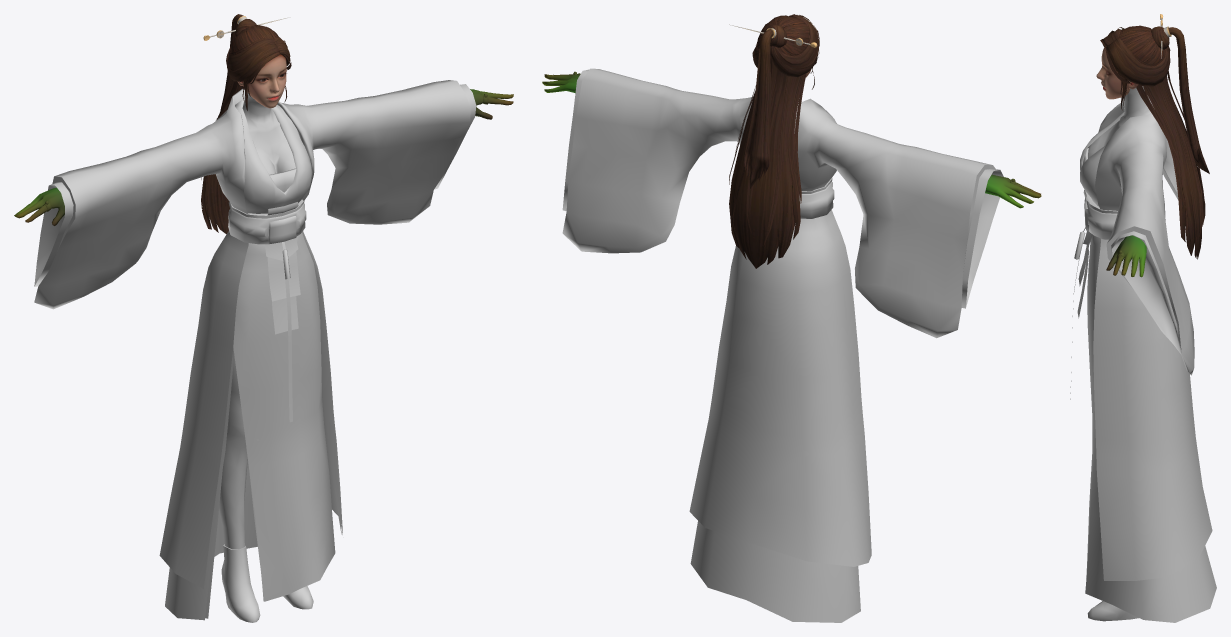
The model's file is NPC_Ara01.FBX.
3 renders of one model, left to right at view 1: azimuth 30°, elevation 25°; view 2: azimuth 150°, elevation 25°; view 3: azimuth 270°, elevation 25°, orthographic.
Visible parts, largest first — view 1: NPC_Ara01_ingame; view 2: NPC_Ara01_ingame; view 3: NPC_Ara01_ingame.
Boxes of the visible parts, box(x1,y1,x2,y2) form: NPC_Ara01_ingame: box(14, 14, 513, 622); NPC_Ara01_ingame: box(542, 14, 1041, 622); NPC_Ara01_ingame: box(1070, 14, 1216, 622).
Bounding box in the file's own units: 174 × 192 × 43.94.
